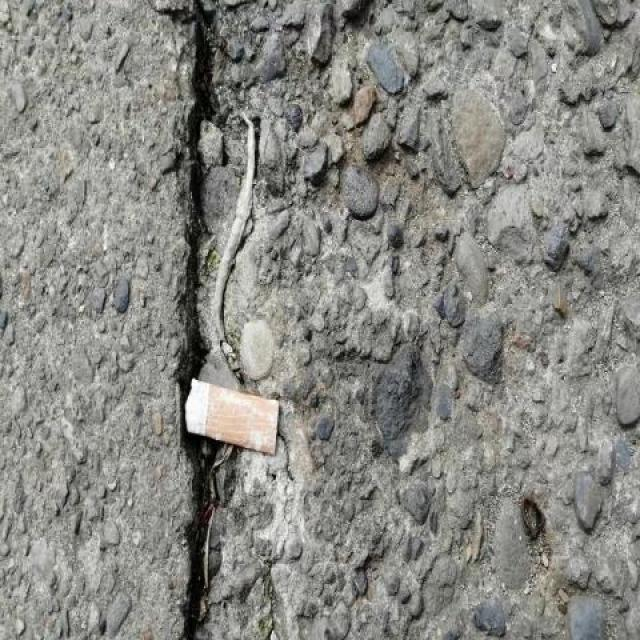non-organic waste: (180, 375, 283, 457)
